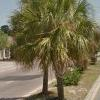Palm tree: (13, 4, 77, 93)
